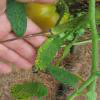Tomato Septoria leaf spot: (34, 35, 60, 72), (9, 82, 57, 99), (45, 64, 79, 86)
